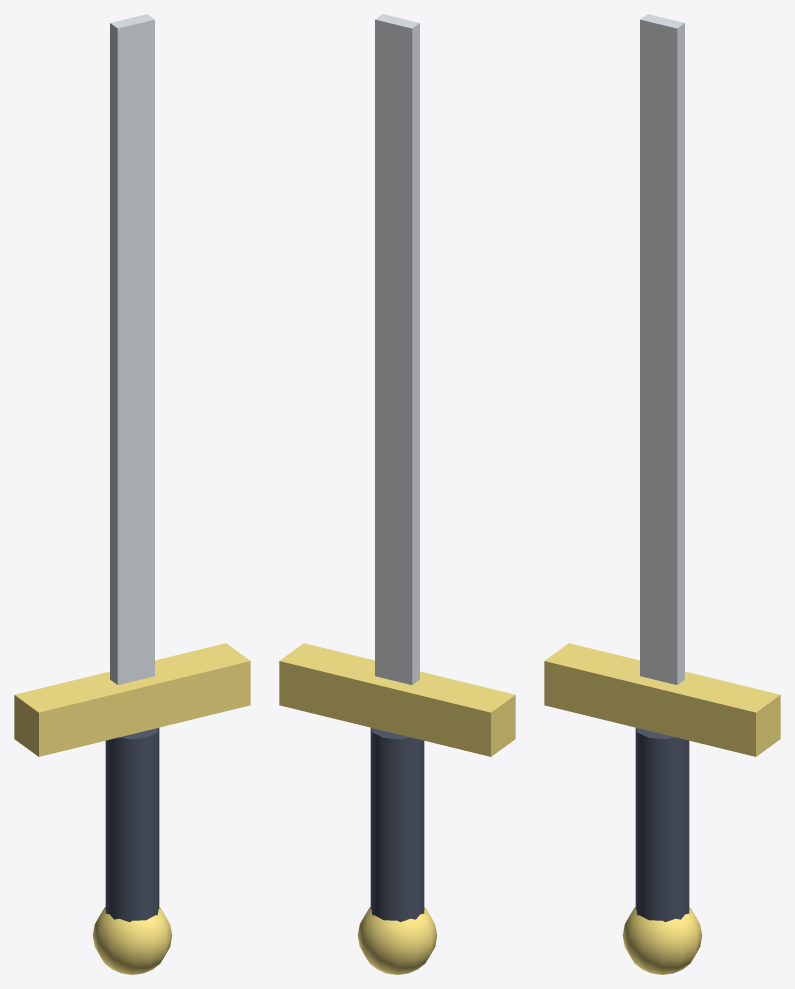
Rendered from runed_sword.glb.
3 views of the same model, side by side, from view 1: azimuth 30°, elevation 25°; view 2: azimuth 150°, elevation 25°; view 3: azimuth 330°, elevation 25° (orthographic).
Bounding box in the file's own units: 0.8 × 3.43 × 0.26.
